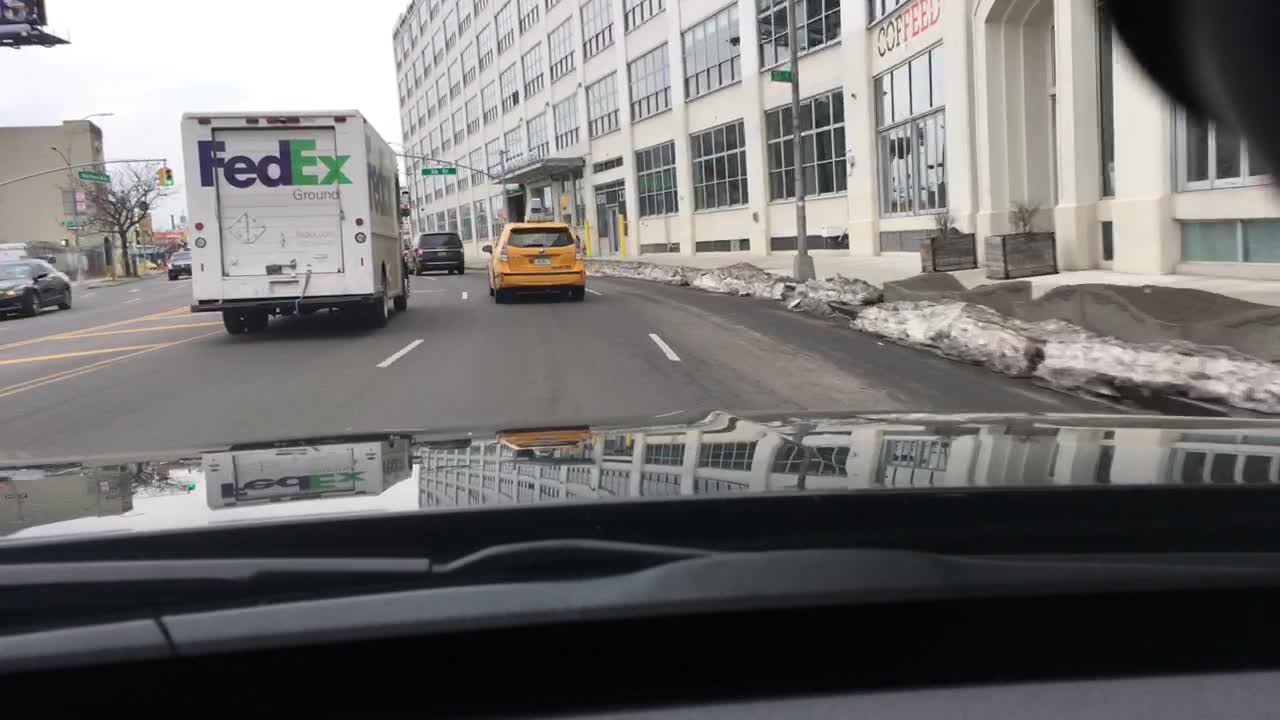car: (481, 198, 590, 303), (0, 256, 71, 321), (410, 228, 467, 279), (168, 246, 193, 280)
traffic light: (154, 166, 163, 187), (164, 166, 172, 186)
traffic sign: (768, 65, 795, 83), (78, 170, 113, 183), (420, 165, 457, 175), (59, 217, 85, 226), (138, 198, 147, 211)
truck: (179, 105, 412, 335)
